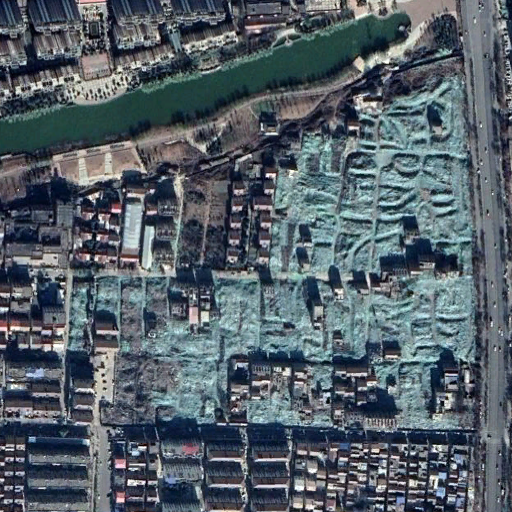cw: (68, 75, 478, 440)
